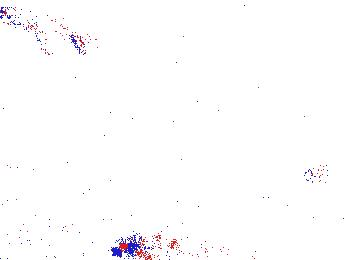X-ray fish: (110, 229, 176, 259), (300, 159, 333, 186)
redtail glassfish: (1, 3, 96, 55)
